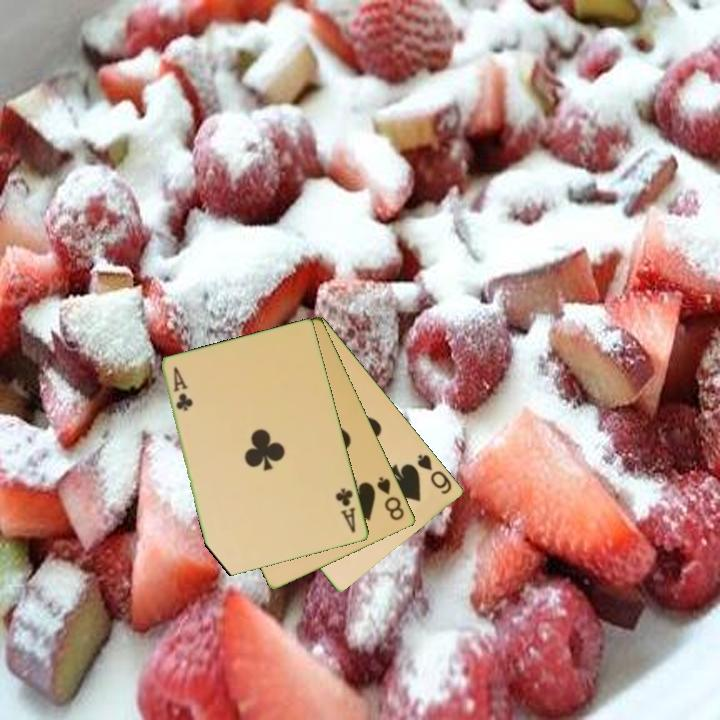6s: (414, 451, 455, 497)
8s: (373, 473, 408, 523)
Ac: (332, 485, 359, 536), (170, 363, 195, 414)
